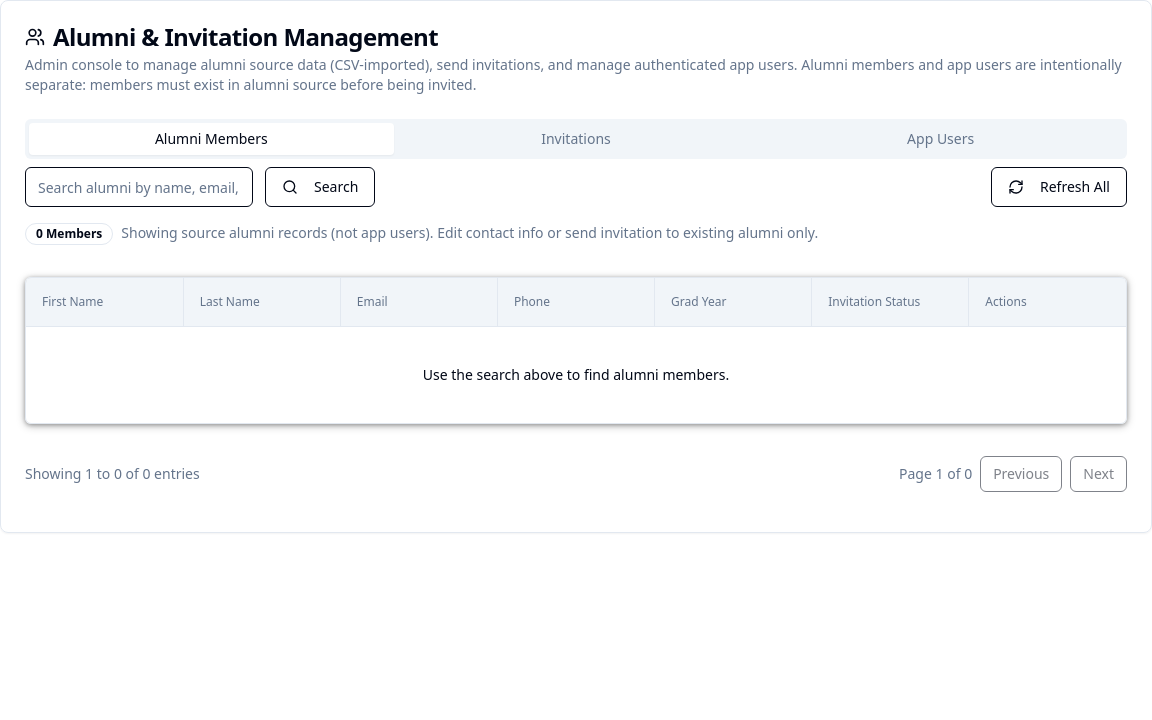
Test: InvitationSection › OTP Functionality › shows testing panel when Test Mode is clicked
// Switch to invitations tab
Click the tab "Invitations": click(576, 139) [394,123,758,155]
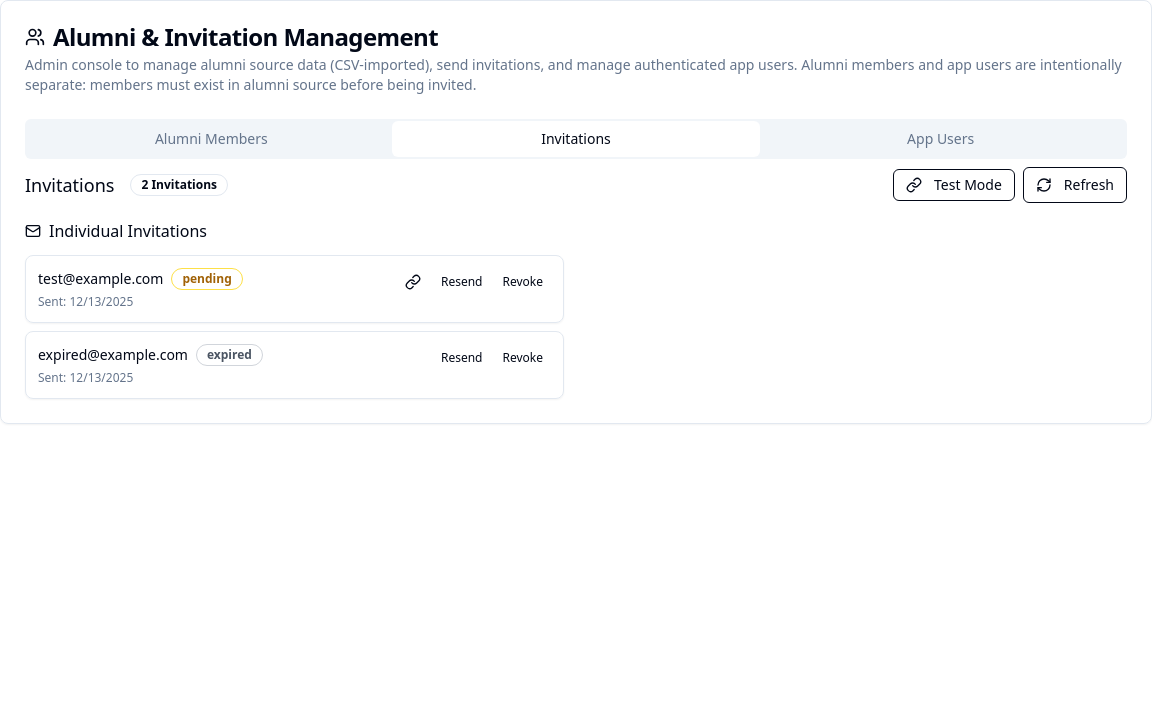
// Click Test Mode button
Click the button "Test Mode": click(954, 185) [893,169,1015,201]
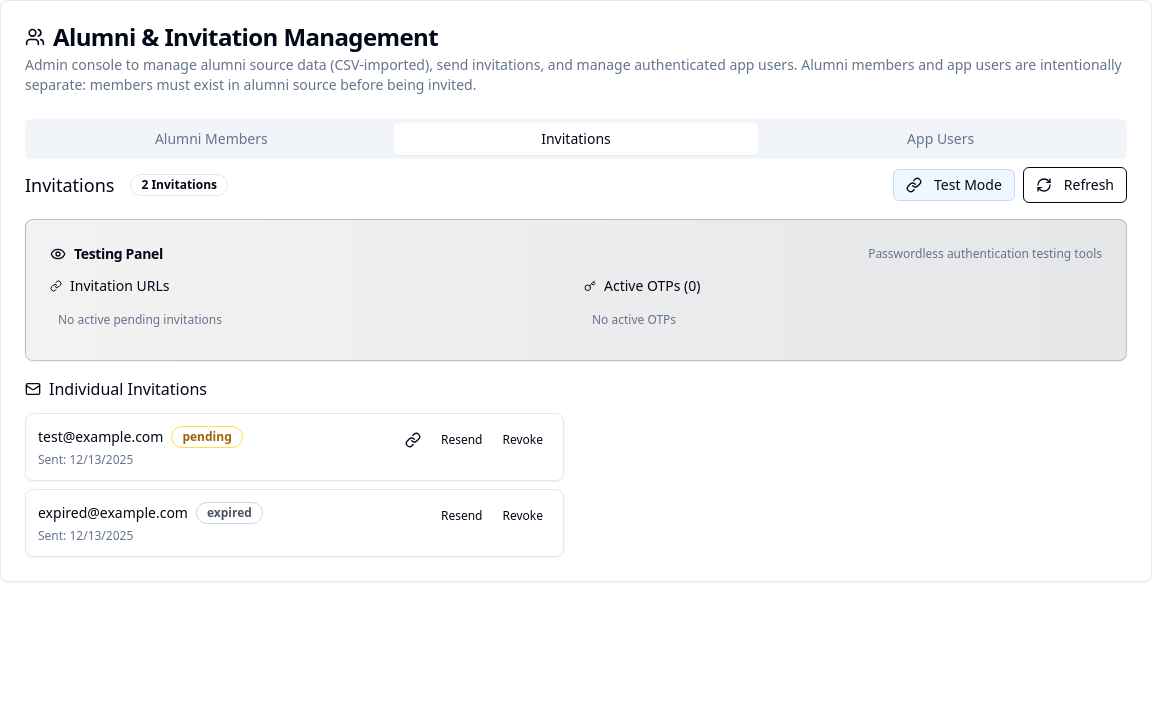
Result: the heading "Testing Panel" is shown at [74,244,163,264]
